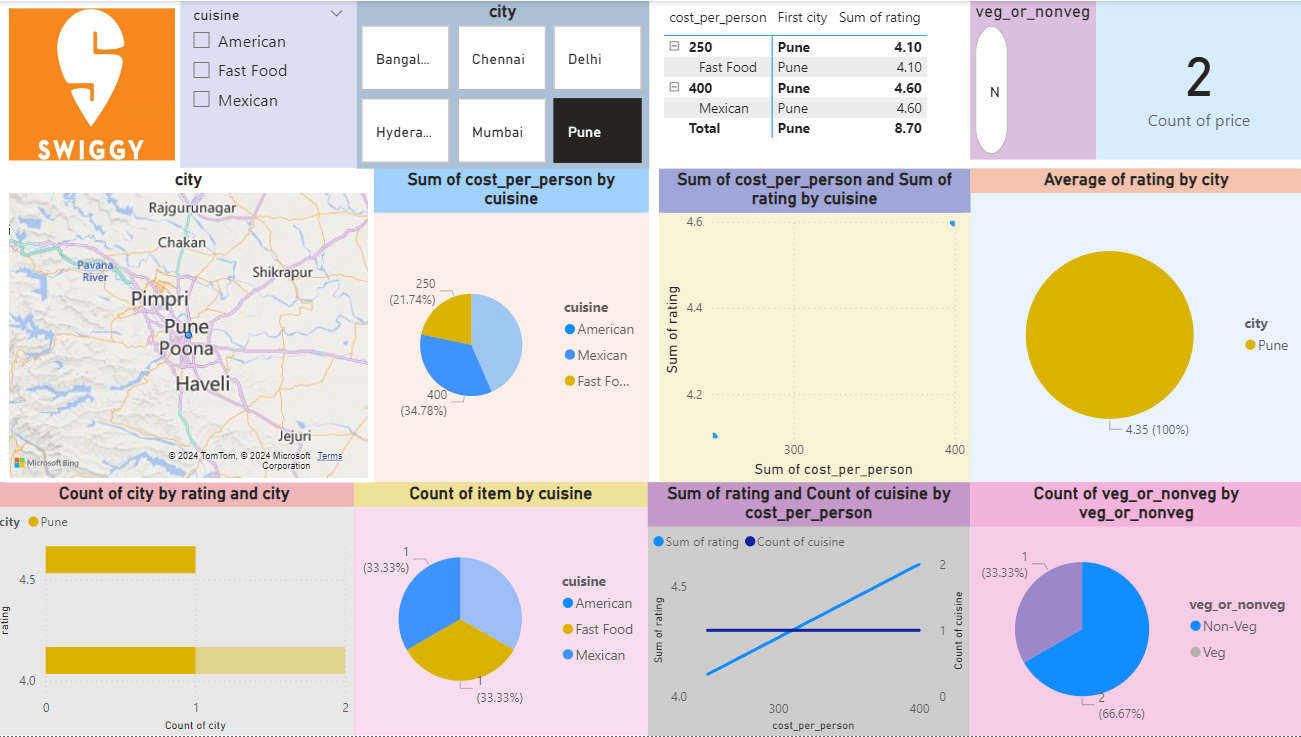

The dashboard page shown, as its layout file describes it:
{"tool":"powerbi","page":{"name":"Page 1","canvas":[1280,720],"ordinal":0},"visuals":[{"type":"image","box":[10,0,172.1,163.6],"z":0},{"type":"barChart","fields":{"Category":["22  Swiggy_csv.rating"],"Y":["CountNonNull(22  Swiggy_csv.city)"],"Series":["22  Swiggy_csv.city"]},"box":[0,470.8,352.7,248.9],"z":1},{"type":"pieChart","fields":{"Category":["22  Swiggy_csv.cuisine"],"Y":["CountNonNull(22  Swiggy_csv.item)"]},"box":[352.7,470.8,287.3,248.9],"z":2},{"type":"map","fields":{"Category":["22  Swiggy_csv.city","22  Swiggy_csv.rating","22  Swiggy_csv.cost_per_person"]},"box":[10,163.6,361.2,307.2],"z":3},{"type":"pieChart","fields":{"Category":["22  Swiggy_csv.cuisine"],"Y":["Sum(22  Swiggy_csv.cost_per_person)"]},"box":[371.2,163.6,268.8,307.2],"z":4},{"type":"slicer","fields":{"Values":["22  Swiggy_csv.cuisine"]},"box":[182,0,172.1,163.6],"z":5},{"type":"advancedSlicerVisual","fields":{"Values":["22  Swiggy_csv.city"]},"box":[354.6,0,286.1,163.9],"z":6},{"type":"pivotTable","fields":{"Rows":["22  Swiggy_csv.cost_per_person","22  Swiggy_csv.cuisine"],"Values":["Min(22  Swiggy_csv.city)","Sum(22  Swiggy_csv.rating)"]},"box":[650.5,0,315.5,163.9],"z":7},{"type":"lineChart","fields":{"Y":["Sum(22  Swiggy_csv.rating)"],"Category":["22  Swiggy_csv.cost_per_person"],"Y2":["CountNonNull(22  Swiggy_csv.cuisine)"]},"box":[639.5,470.8,315.5,249.5],"z":8},{"type":"scatterChart","fields":{"X":["Sum(22  Swiggy_csv.cost_per_person)"],"Y":["Sum(22  Swiggy_csv.rating)"],"Category":["22  Swiggy_csv.cuisine"]},"box":[650.5,163.9,304.5,306.9],"z":9},{"type":"pieChart","fields":{"Y":["Avg(22  Swiggy_csv.rating)"],"Category":["22  Swiggy_csv.city"]},"box":[955,163.9,325.3,306.9],"z":10},{"type":"advancedSlicerVisual","fields":{"Values":["22  Swiggy_csv.veg_or_nonveg"]},"box":[955,0,123.5,155.3],"z":11},{"type":"pieChart","fields":{"Category":["22  Swiggy_csv.veg_or_nonveg"],"Y":["CountNonNull(22  Swiggy_csv.veg_or_nonveg)"]},"box":[955,470.8,325.3,249.5],"z":12},{"type":"card","fields":{"Values":["Count(22  Swiggy_csv.price)"]},"box":[1079,0,201,155],"z":13}]}

Visuals, with their boxes in screenshot pixels (x1, y1, x2, y2), scaled from the page's 1280x720 canvas onto the 1301x737 screenshot:
image: 10:0:185:167
barChart - 22  Swiggy_csv.rating x CountNonNull(22  Swiggy_csv.city): 0:482:358:736
pieChart - 22  Swiggy_csv.cuisine x CountNonNull(22  Swiggy_csv.item): 358:482:650:736
map - 22  Swiggy_csv.city x 22  Swiggy_csv.rating: 10:167:377:482
pieChart - 22  Swiggy_csv.cuisine x Sum(22  Swiggy_csv.cost_per_person): 377:167:650:482
slicer - 22  Swiggy_csv.cuisine: 185:0:360:167
advancedSlicerVisual - 22  Swiggy_csv.city: 360:0:651:168
pivotTable - 22  Swiggy_csv.cost_per_person x 22  Swiggy_csv.cuisine: 661:0:982:168
lineChart - Sum(22  Swiggy_csv.rating) x 22  Swiggy_csv.cost_per_person: 650:482:971:736
scatterChart - Sum(22  Swiggy_csv.cost_per_person) x Sum(22  Swiggy_csv.rating): 661:168:971:482
pieChart - Avg(22  Swiggy_csv.rating) x 22  Swiggy_csv.city: 971:168:1300:482
advancedSlicerVisual - 22  Swiggy_csv.veg_or_nonveg: 971:0:1096:159
pieChart - 22  Swiggy_csv.veg_or_nonveg x CountNonNull(22  Swiggy_csv.veg_or_nonveg): 971:482:1300:736
card - Count(22  Swiggy_csv.price): 1097:0:1300:159
